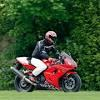helmet: (43, 29, 63, 46)
